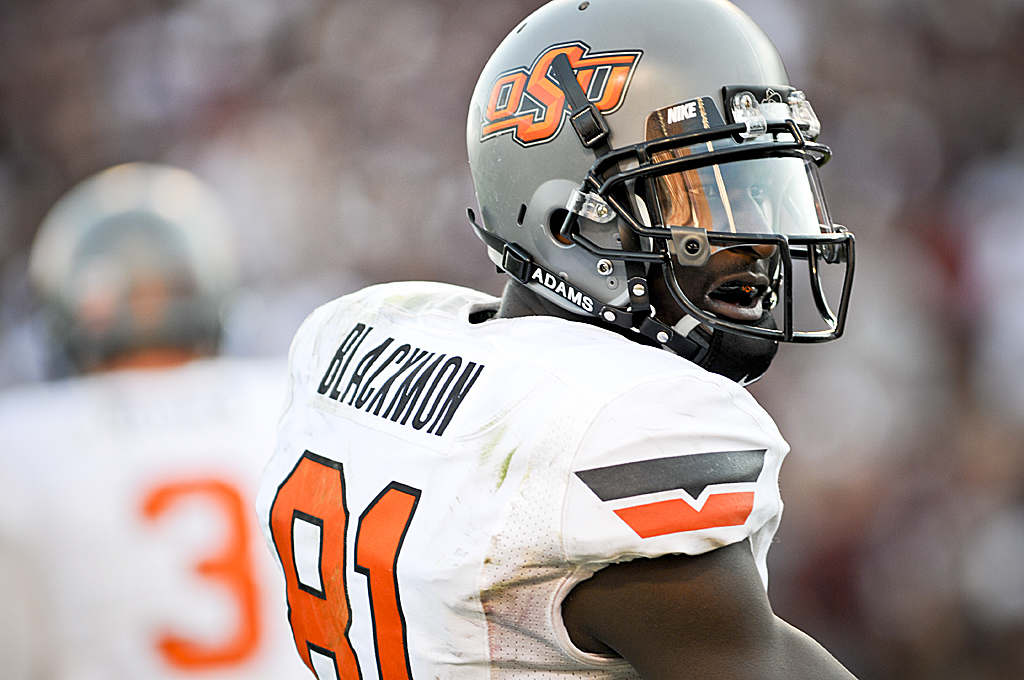Person: (253, 0, 855, 680), (0, 161, 284, 680)
